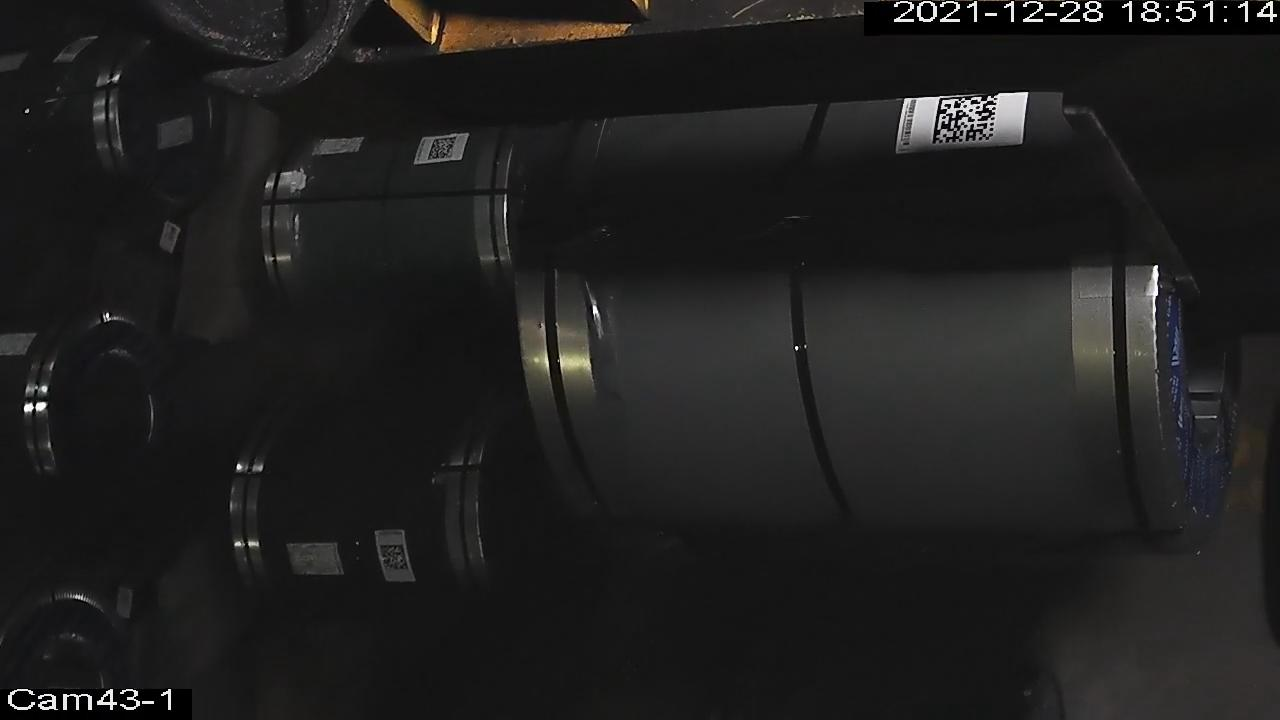data matrix: (931, 91, 1001, 150), (377, 543, 411, 574), (428, 135, 460, 163)
